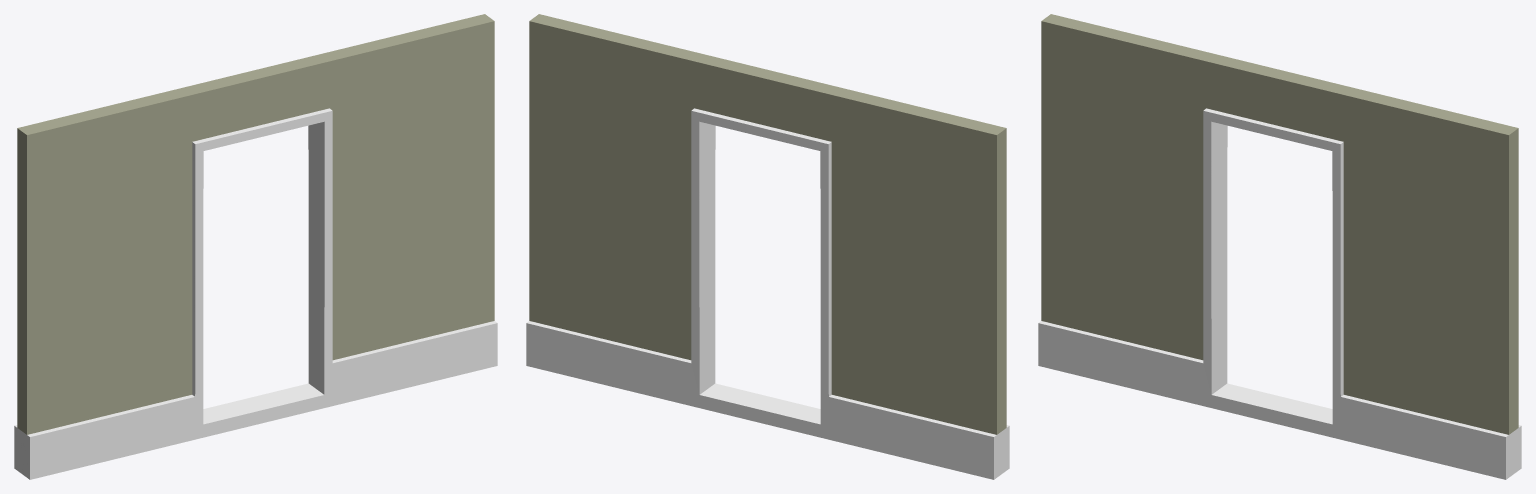
Rendered from Wall_Door.fbx.
3 views of the same model, side by side, from view 1: azimuth 30°, elevation 25°; view 2: azimuth 150°, elevation 25°; view 3: azimuth 330°, elevation 25° (orthographic).
Visible parts, largest first — view 1: Wall_Door; view 2: Wall_Door; view 3: Wall_Door.
Boxes of the visible parts, x1,y1,x2,y2 form: Wall_Door: [14, 14, 497, 479]; Wall_Door: [526, 14, 1009, 479]; Wall_Door: [1038, 14, 1521, 479].
Size of the model in its own units: 500 by 350 by 30.
